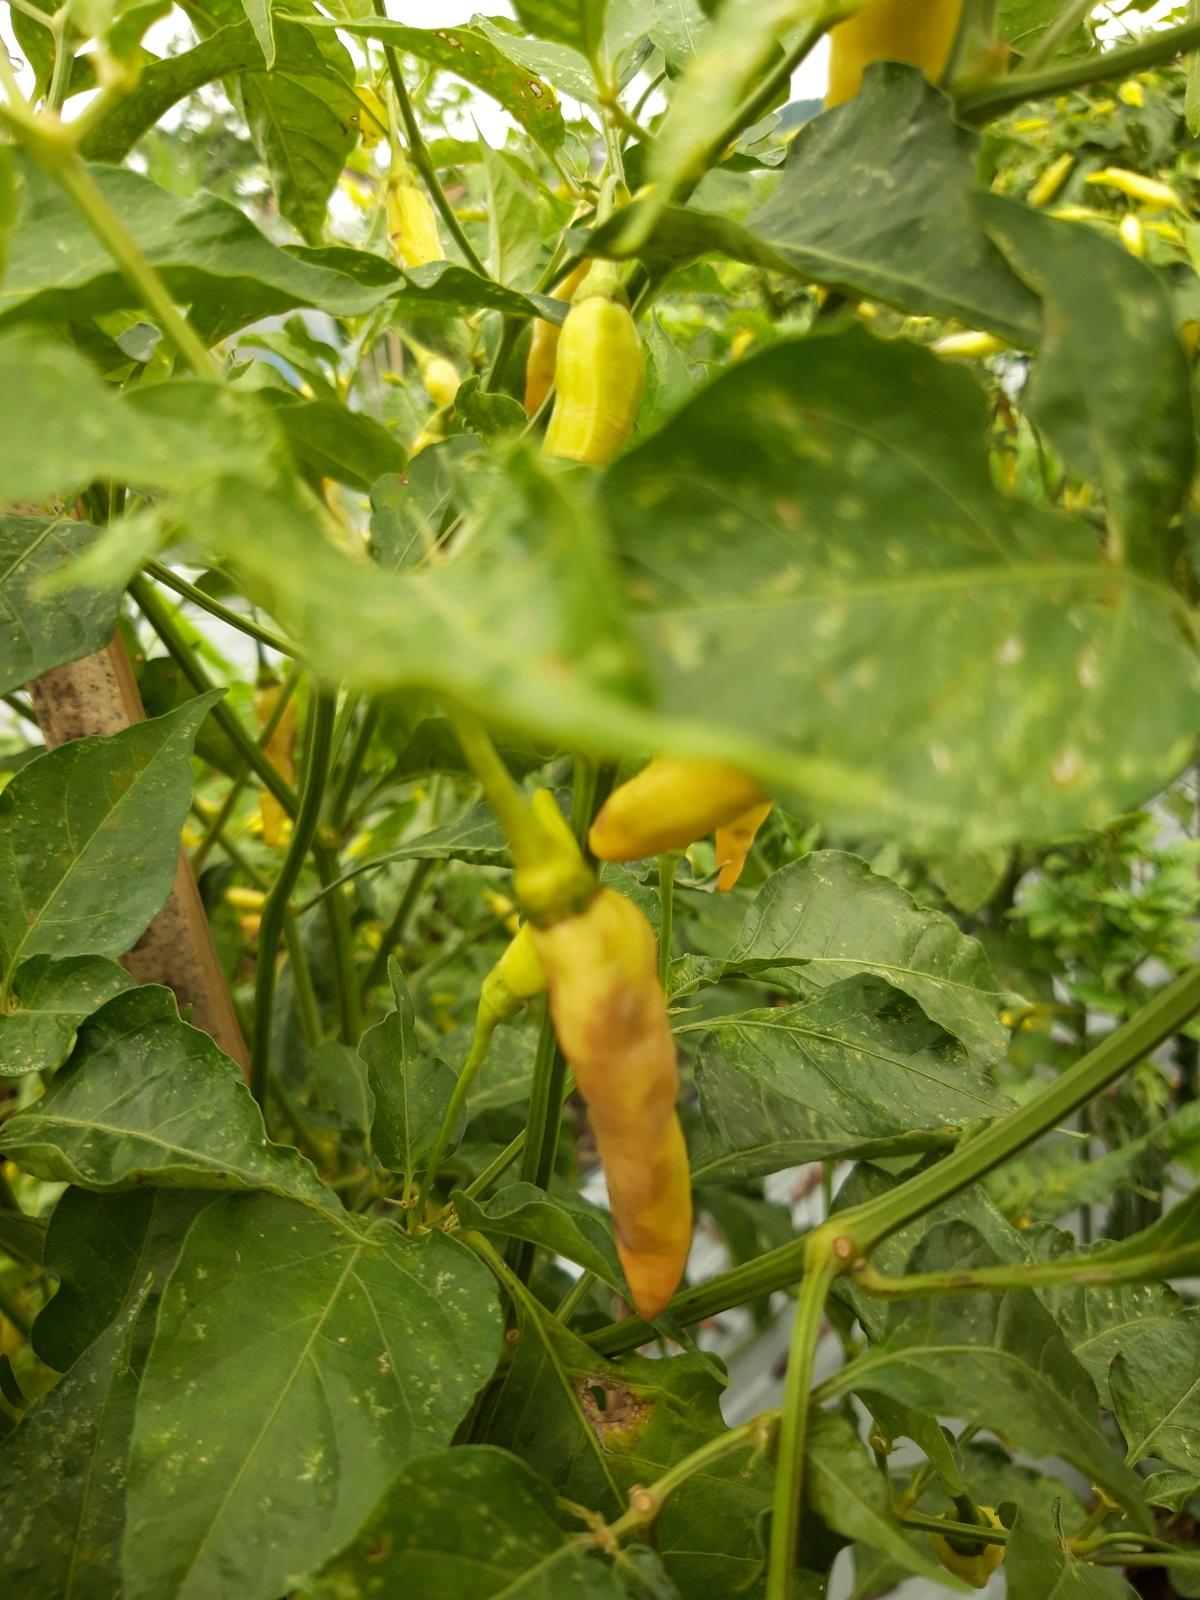lalat_buah: (507, 858, 703, 1329)
